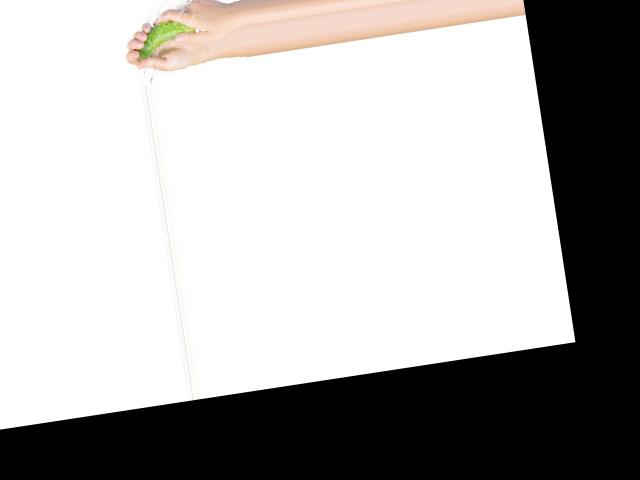cucumber: (132, 15, 199, 60)
